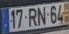1: (9, 8, 15, 29)
4: (57, 4, 63, 23)
6: (49, 4, 56, 24)
7: (15, 8, 23, 29)
N: (36, 6, 46, 27)
R: (28, 8, 37, 28)
